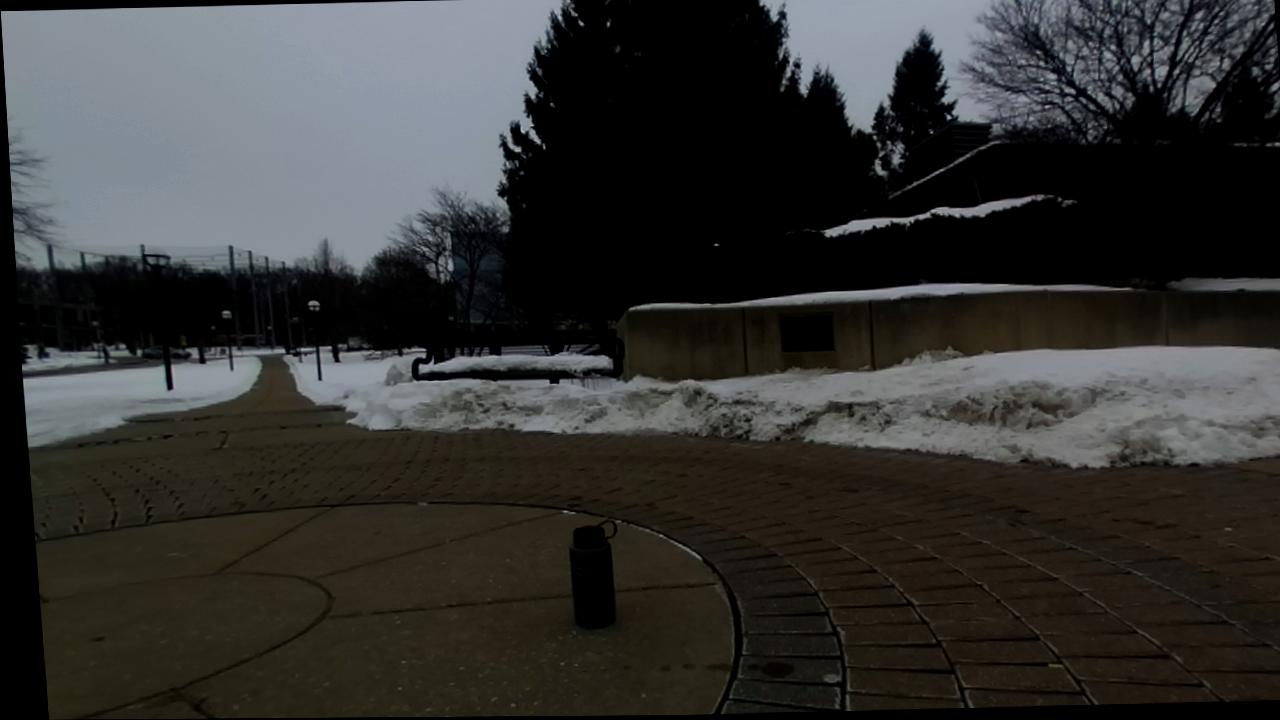bottle: (569, 520, 616, 627)
